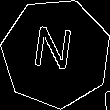N_S: (33, 26, 79, 81)
